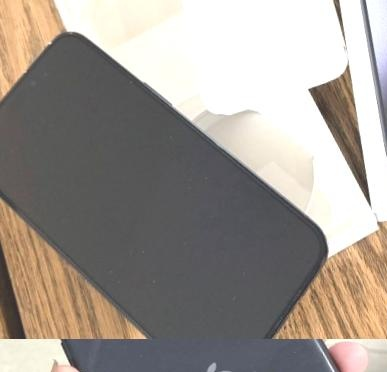physical_damage: (37, 35, 60, 48), (15, 62, 33, 77)
